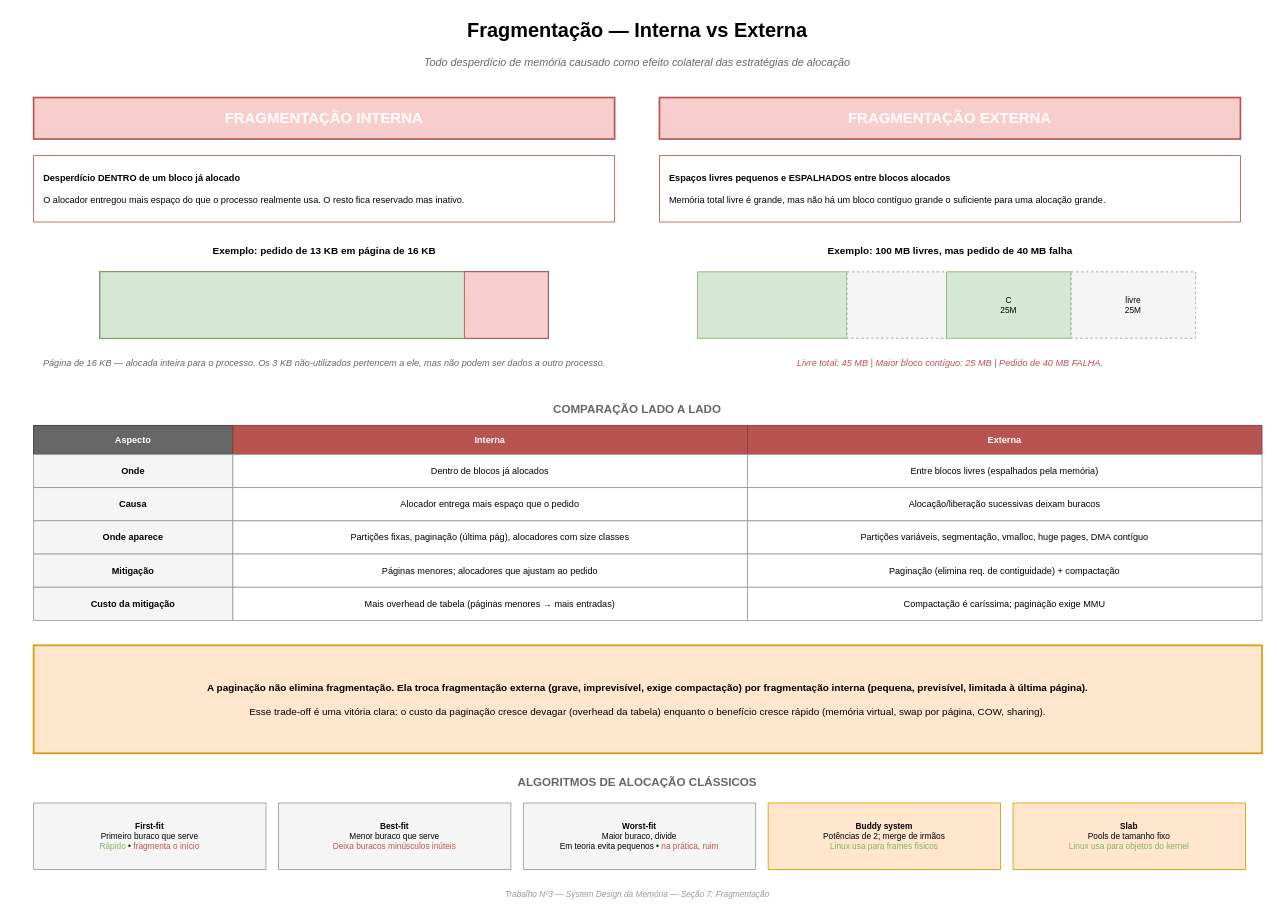
Some shapes in this 1277 by 916 pixel diagram are drawn without their labels. The box of each missing label's shape, as (x1, y1, x2, y2) in pixels:
A 30M: (697, 271, 847, 338)
DESPER- DÍCIO 3 KB: (464, 271, 548, 338)
livre 20M: (846, 271, 947, 338)
USADO (13 KB): (99, 271, 464, 338)
